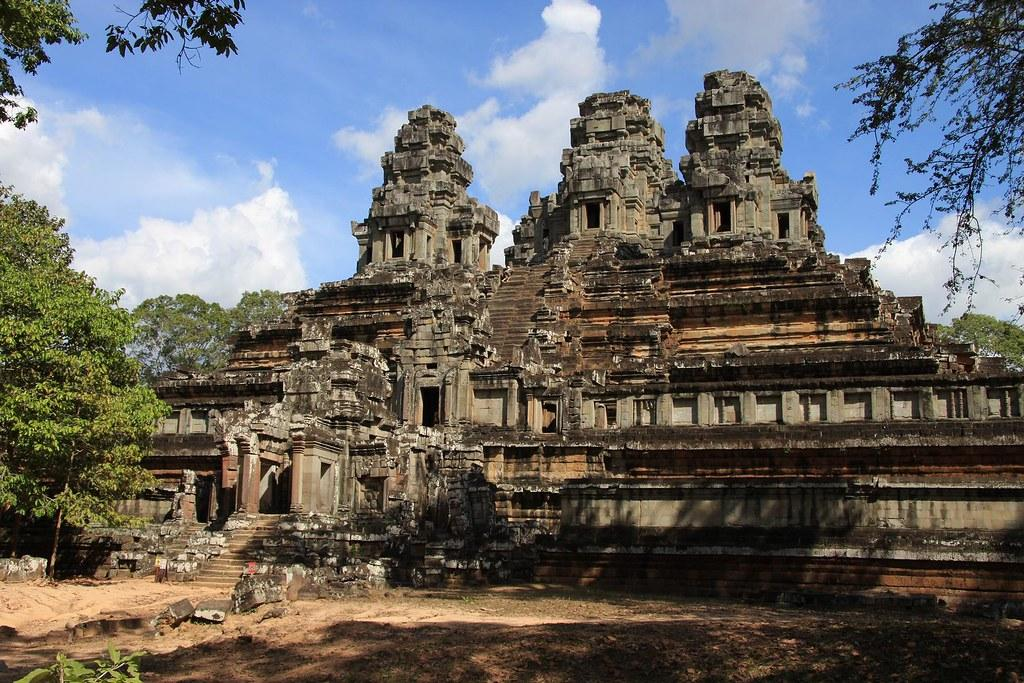temple: (100, 67, 1023, 609)
